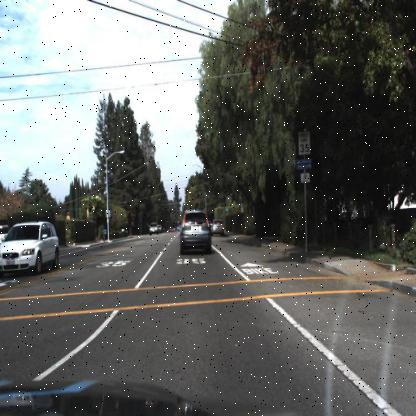car: (0, 212, 64, 286), (172, 201, 219, 263), (209, 217, 228, 237), (147, 219, 162, 237), (147, 219, 159, 238)
